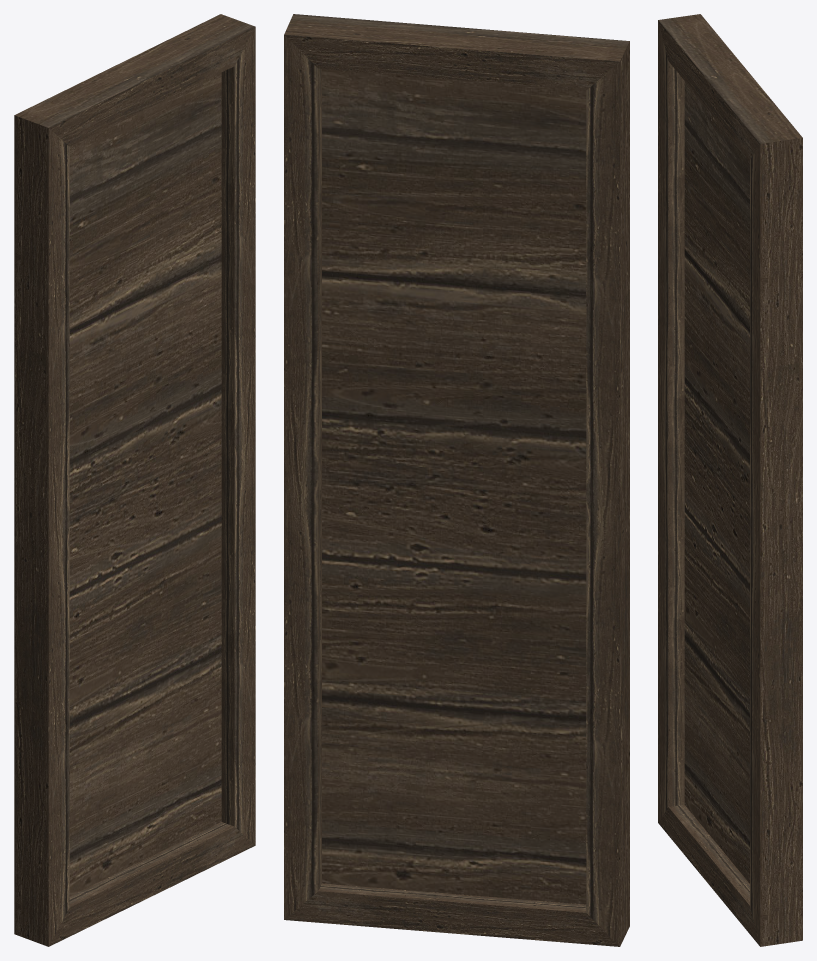
Rendered from ARC1010361.fbx.
3 renders of one model, left to right at view 1: azimuth 30°, elevation 25°; view 2: azimuth 150°, elevation 25°; view 3: azimuth 270°, elevation 25°, orthographic. The views are drawn at different scales.
Visible parts, largest first — view 1: smARC1010361; view 2: smARC1010361; view 3: smARC1010361.
Boxes of the visible parts, x1,y1,x2,y2 form: smARC1010361: [14, 14, 255, 946]; smARC1010361: [284, 14, 629, 946]; smARC1010361: [658, 14, 802, 946].
Size of the model in its own units: 40.4 by 116 by 19.
Materials: 1 (1 with a texture image).
